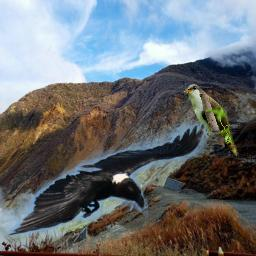Crow: (7, 120, 207, 236)
Cuckoo: (181, 84, 242, 157)
